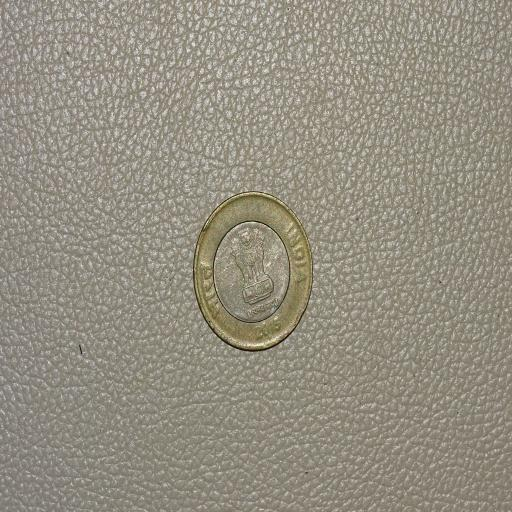rupee10: (191, 190, 314, 352)
